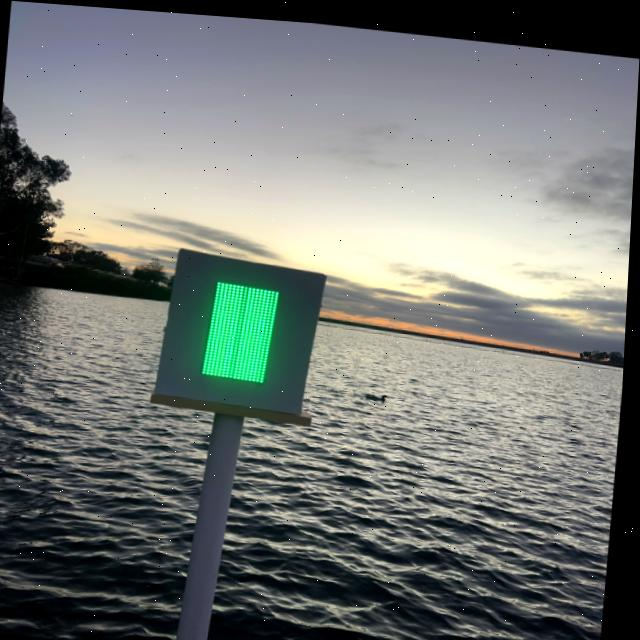led: (181, 249, 305, 408)
